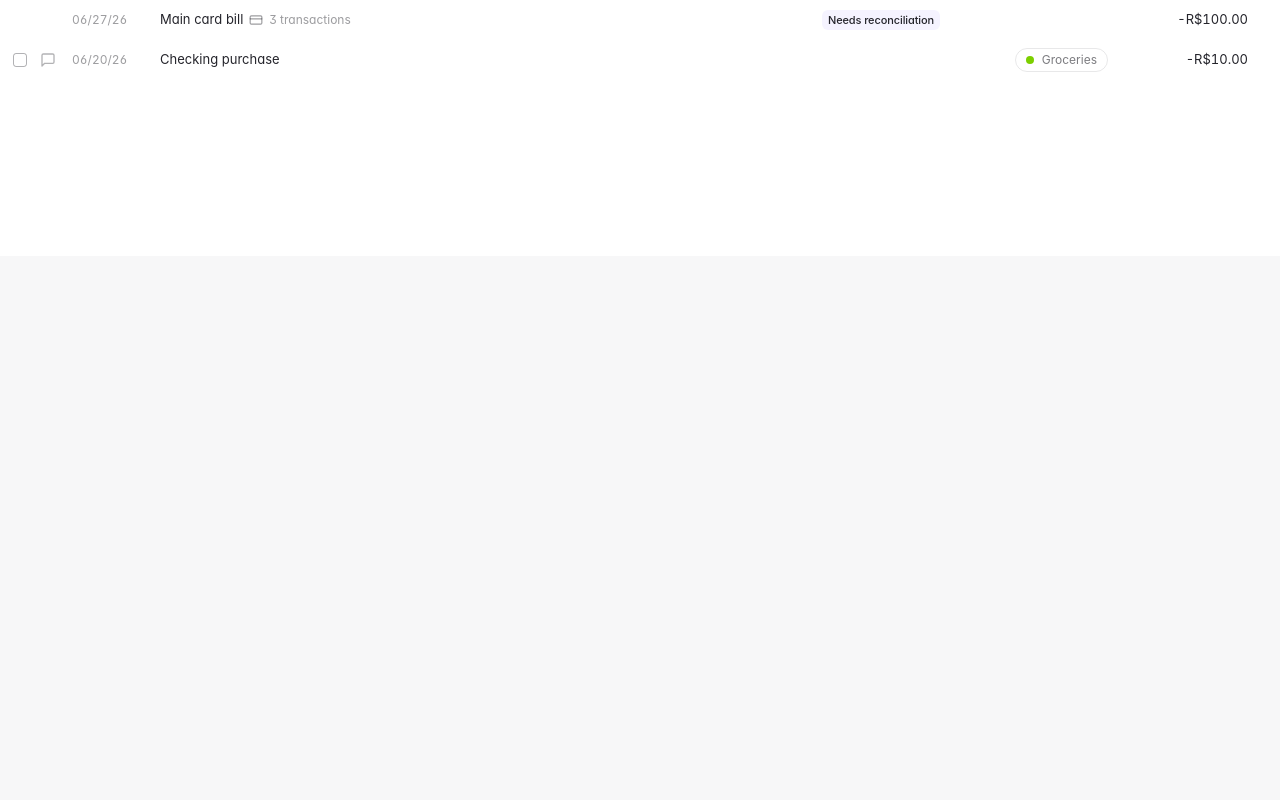
Test: CreditCardBillsLedger selection › selects a grouped checking transaction on command-click
The width and height of the screenshot is (1280, 800).
Click the row with test id "grouped-transaction-row" at (640, 60), box [8, 40, 1272, 80]
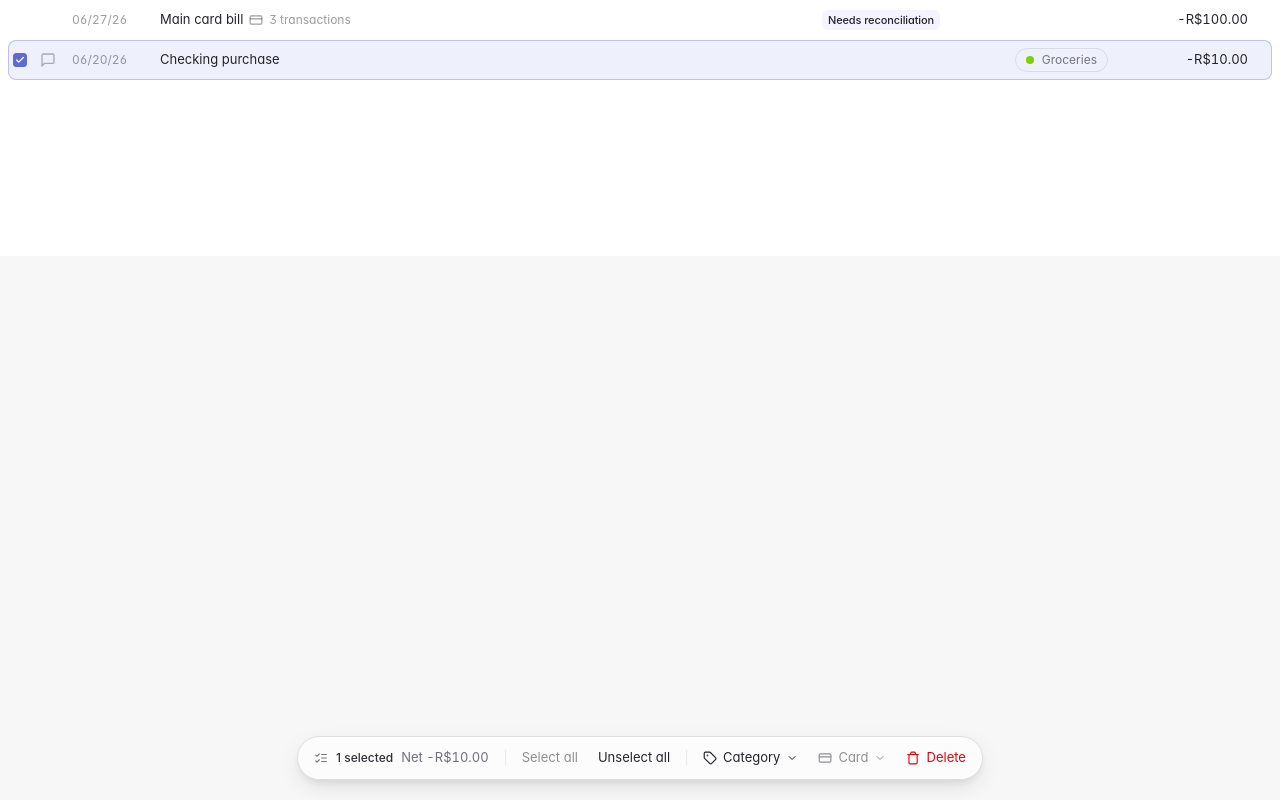
Check: the dropdown named "Change category for Checking purchase" reads "Groceries", box [1015, 42, 1108, 78]
Check: the text "1 selected" is shown, box [336, 750, 393, 766]
